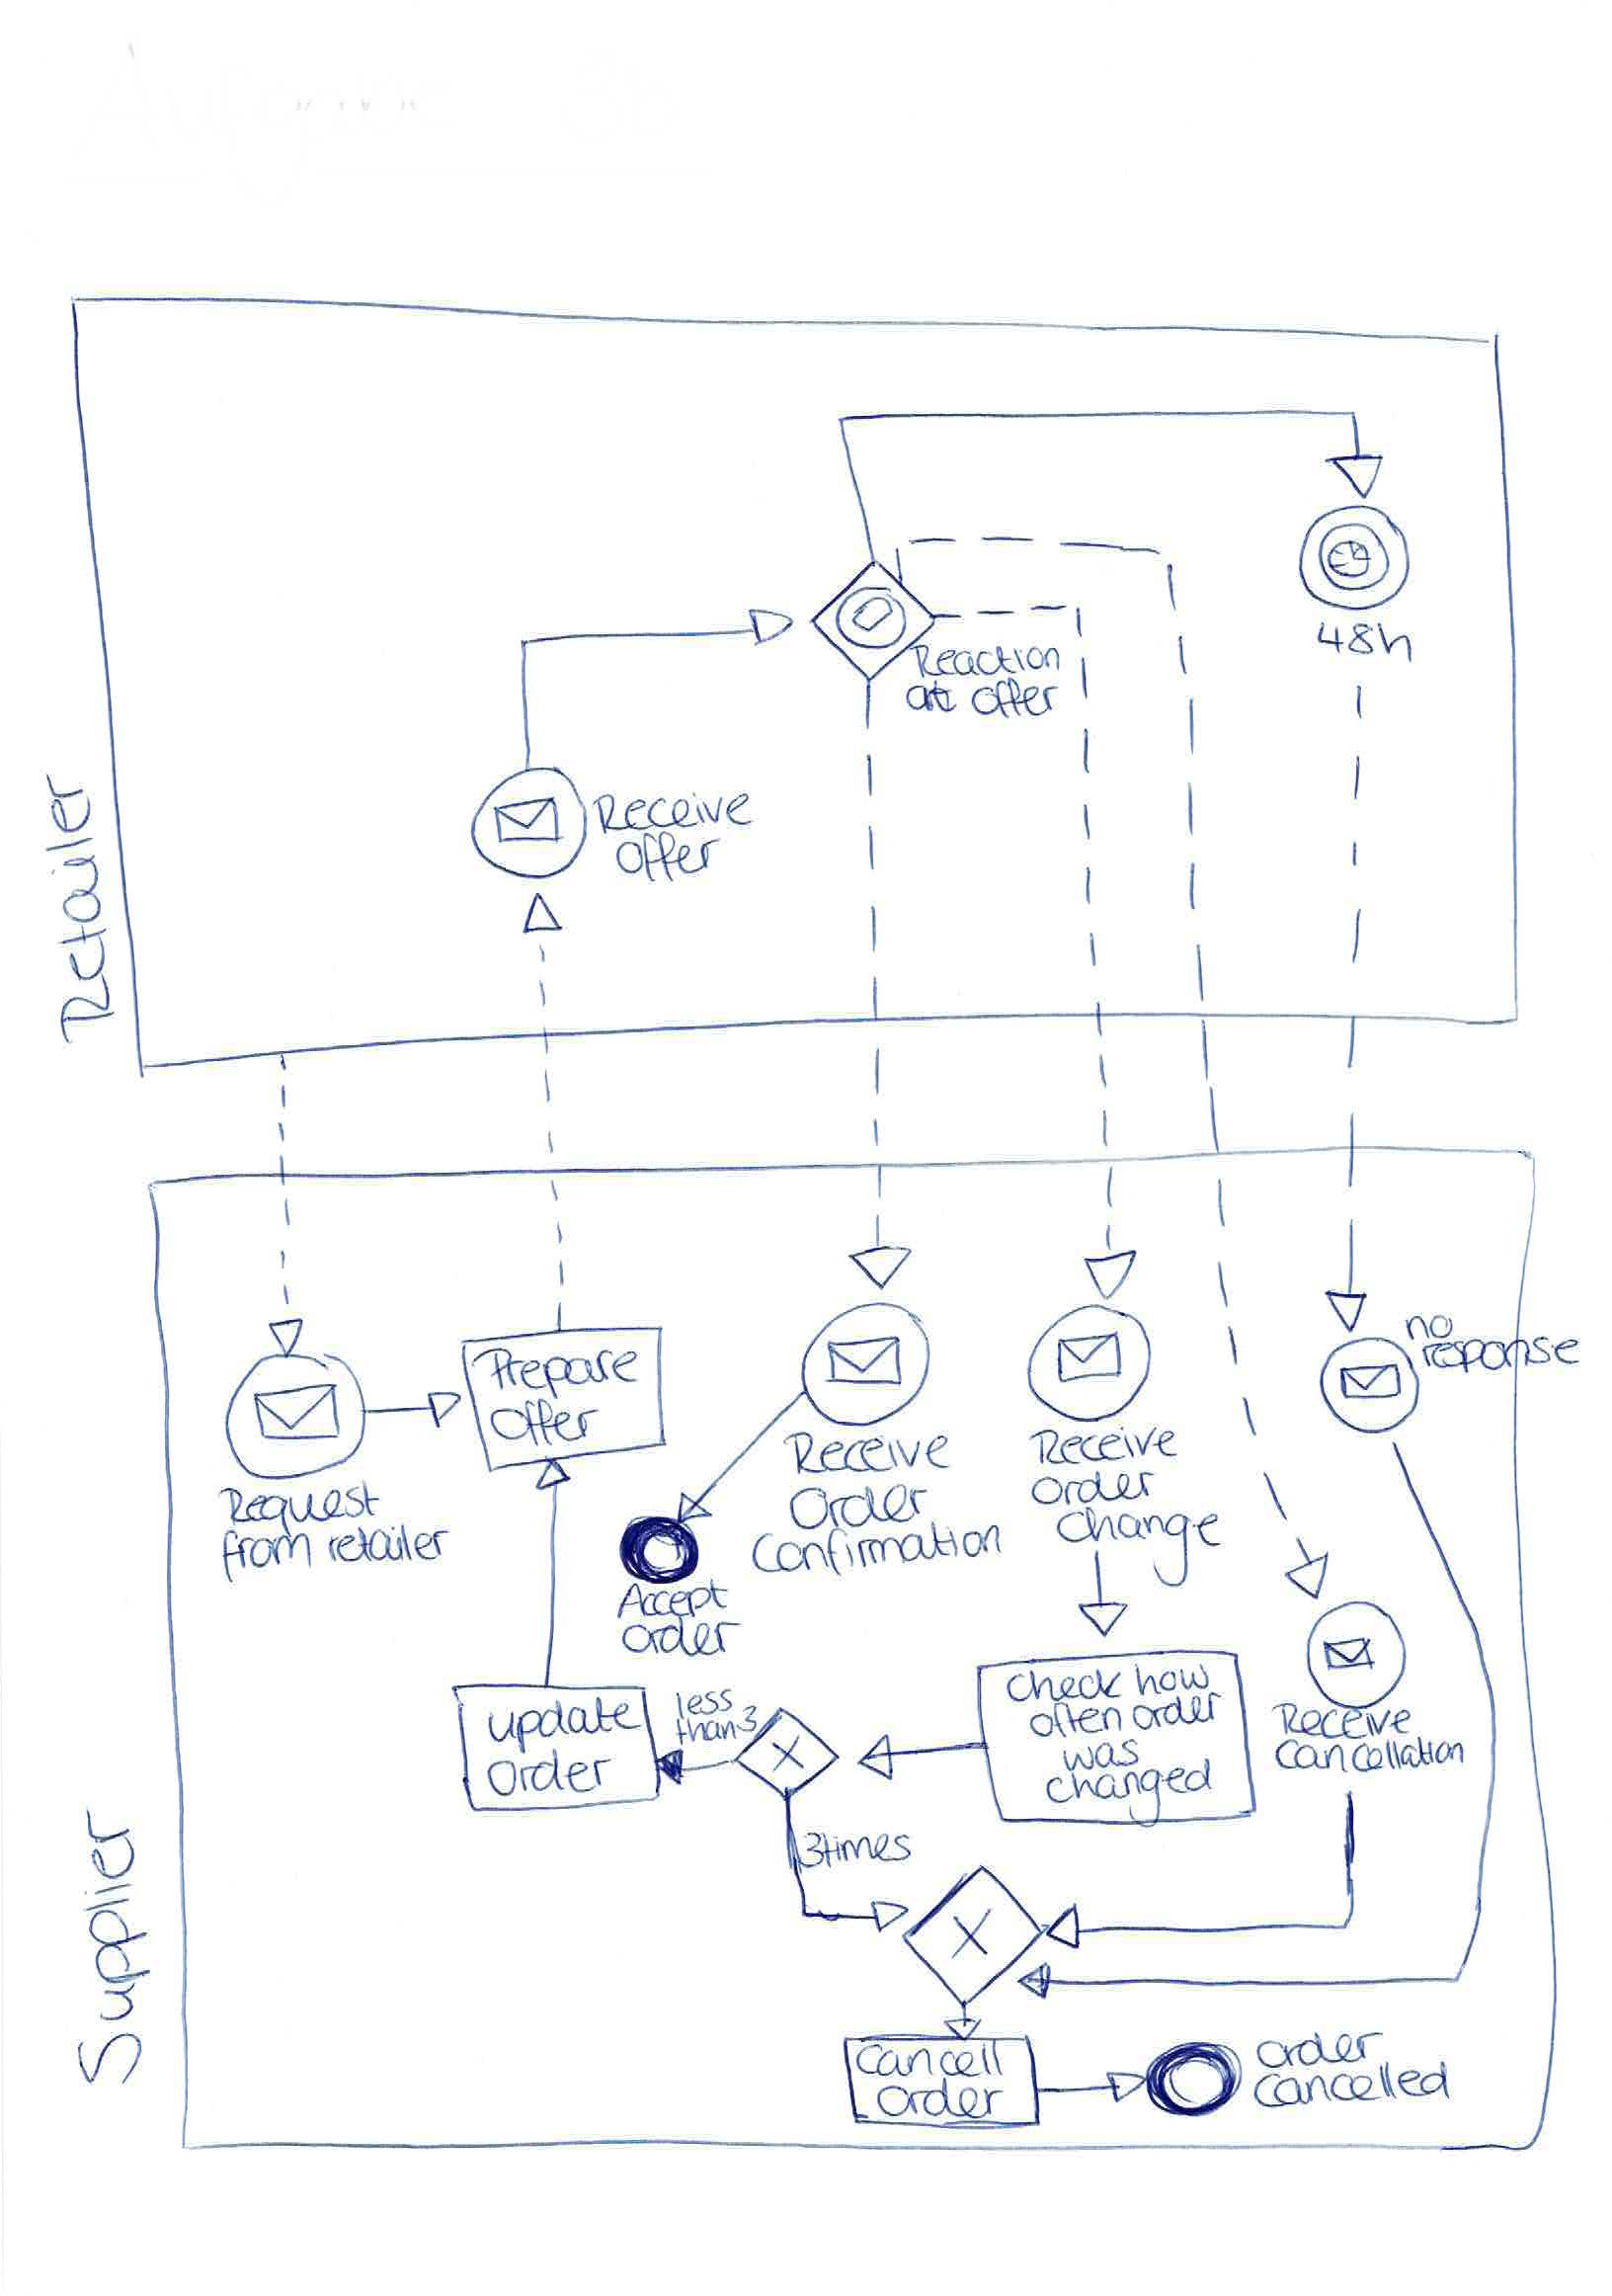3: (733, 1696, 759, 1738)
3times: (799, 1827, 912, 1876)
48h: (1314, 616, 1413, 665)
Accept: (623, 1577, 727, 1619)
Cancellation: (1277, 1734, 1467, 1773)
Check: (1003, 1663, 1132, 1708)
Confirmation: (752, 1516, 1007, 1582)
Order: (789, 1476, 932, 1532), (494, 1750, 614, 1801)
Prepare: (480, 1340, 645, 1396)
Reaction: (914, 637, 1069, 679)
Receive: (789, 1427, 954, 1479), (593, 787, 754, 836), (1038, 1420, 1183, 1467), (1279, 1701, 1418, 1739)
Request: (220, 1479, 384, 1530)
Retailer: (33, 776, 110, 1035)
Supplier: (70, 1809, 145, 2073)
at: (900, 677, 960, 717)
cancell: (860, 2045, 1003, 2081)
cancelled: (1254, 2059, 1457, 2111)
change: (1055, 1502, 1223, 1555)
changed: (1047, 1759, 1214, 1809)
from: (220, 1528, 307, 1582)
how: (1139, 1657, 1214, 1699)
less: (675, 1687, 738, 1720)
no: (1404, 1309, 1457, 1343)
offer: (616, 830, 722, 885), (490, 1399, 597, 1446), (972, 675, 1061, 721)
often: (1031, 1701, 1129, 1745)
order: (1254, 2022, 1382, 2073), (1035, 1466, 1153, 1509), (623, 1616, 736, 1661), (881, 2078, 998, 2120), (1130, 1689, 1226, 1734)
response: (1420, 1326, 1588, 1380)
retailer: (326, 1520, 452, 1570)
than: (675, 1706, 733, 1750)
update: (482, 1692, 639, 1753)
was: (1055, 1739, 1144, 1776)
